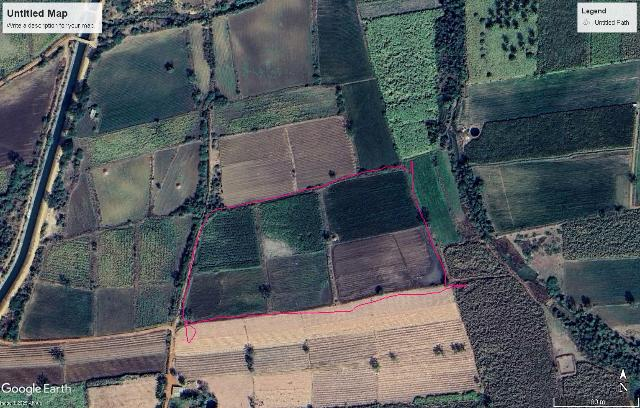DryFarms: (303, 284, 460, 344), (378, 317, 482, 403), (309, 335, 382, 408), (176, 321, 251, 356), (244, 311, 306, 350), (176, 350, 254, 381), (255, 370, 313, 408), (252, 344, 312, 375), (201, 372, 252, 408)
EmptyFarms: (228, 0, 318, 95), (333, 230, 438, 301), (0, 52, 59, 164), (217, 127, 294, 205), (287, 116, 360, 190), (92, 288, 136, 340)
Farms: (473, 148, 632, 238), (76, 29, 198, 134), (466, 57, 640, 128), (463, 104, 632, 163), (211, 81, 342, 141), (324, 166, 426, 241), (79, 109, 208, 167), (339, 79, 405, 171), (467, 0, 540, 83), (566, 256, 640, 329), (313, 0, 376, 85), (191, 206, 262, 274), (90, 155, 152, 229), (258, 191, 324, 255), (562, 206, 640, 260), (20, 282, 92, 339), (153, 141, 202, 218), (138, 215, 192, 282), (40, 235, 92, 288), (95, 224, 134, 287), (137, 285, 175, 329)
